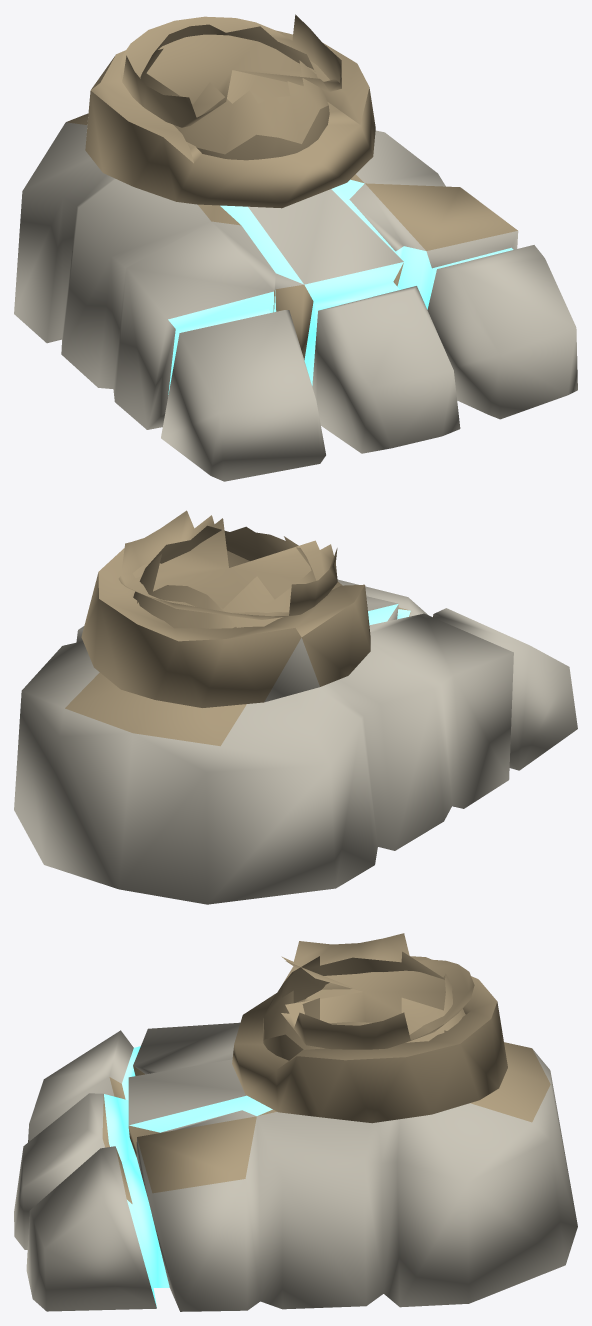
The model's file is BossFoot.glb.
The picture shows the model from 3 angles, top to bottom: view 1: azimuth 30°, elevation 25°; view 2: azimuth 150°, elevation 25°; view 3: azimuth 270°, elevation 25°; orthographic projection. The views are drawn at different scales.
Parts seen in each view (by area): view 1: BossFoot_Bend.010, PART_BossFoot.010; view 2: BossFoot_Bend.010, PART_BossFoot.010; view 3: BossFoot_Bend.010, PART_BossFoot.010.
Boxes of the visible parts, box(x1,y1,x2,y2) form: BossFoot_Bend.010: box(14, 56, 577, 481); PART_BossFoot.010: box(90, 14, 369, 163); BossFoot_Bend.010: box(14, 550, 577, 904); PART_BossFoot.010: box(98, 510, 364, 641); BossFoot_Bend.010: box(14, 989, 577, 1311); PART_BossFoot.010: box(264, 933, 497, 1068).
Bounding box in the file's own units: 0.8943 × 0.6114 × 1.22.
